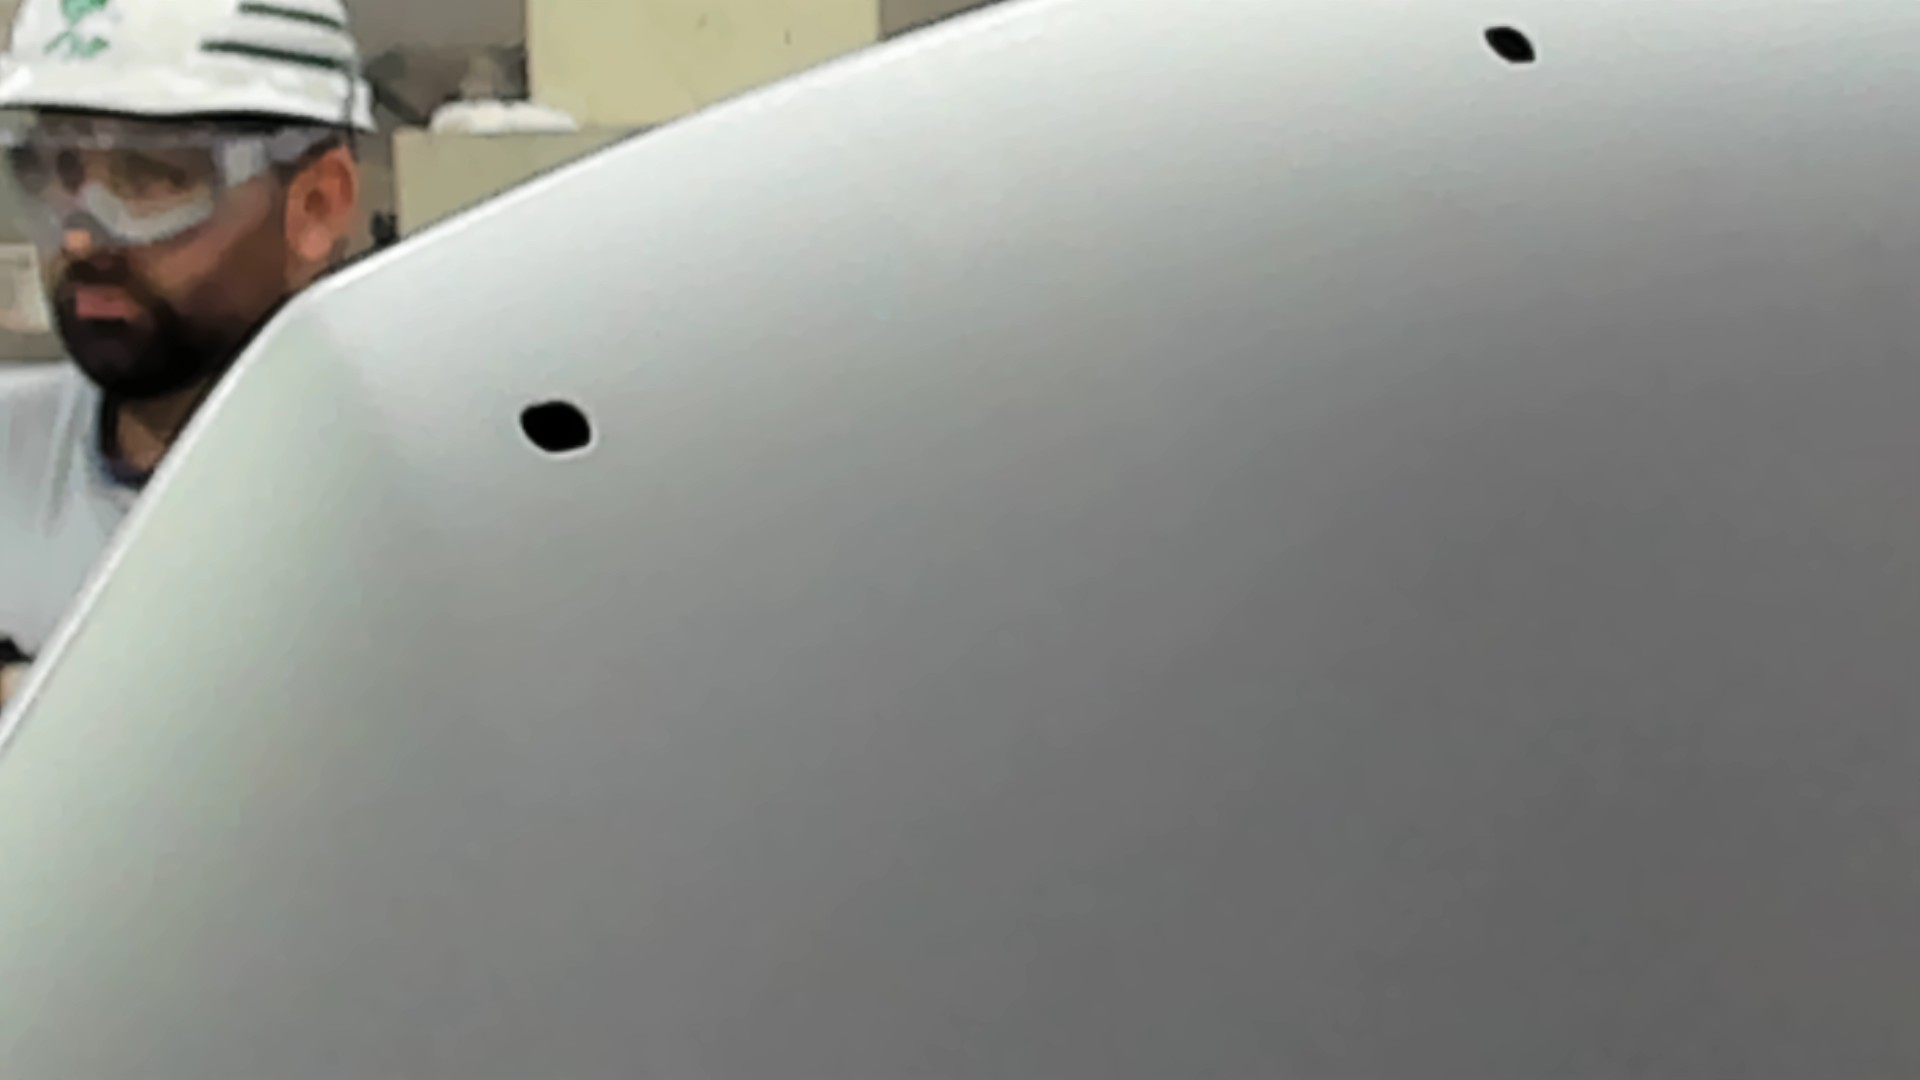amorfo: (514, 392, 601, 459), (1482, 24, 1542, 67)
